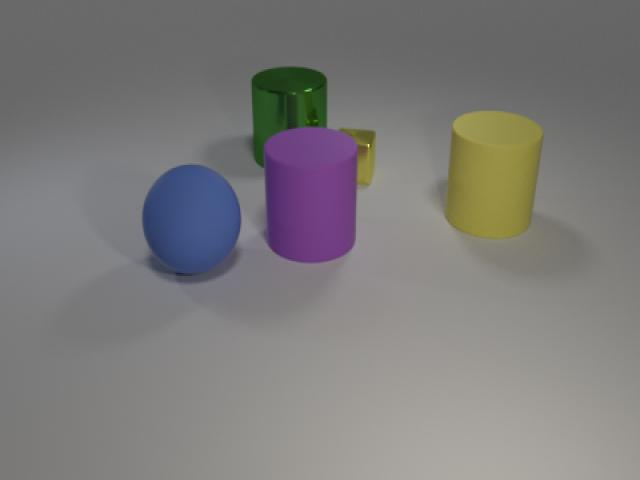cylinder: (438, 99, 549, 247), (259, 120, 362, 268), (248, 58, 330, 165)
round ball: (140, 159, 245, 280)
